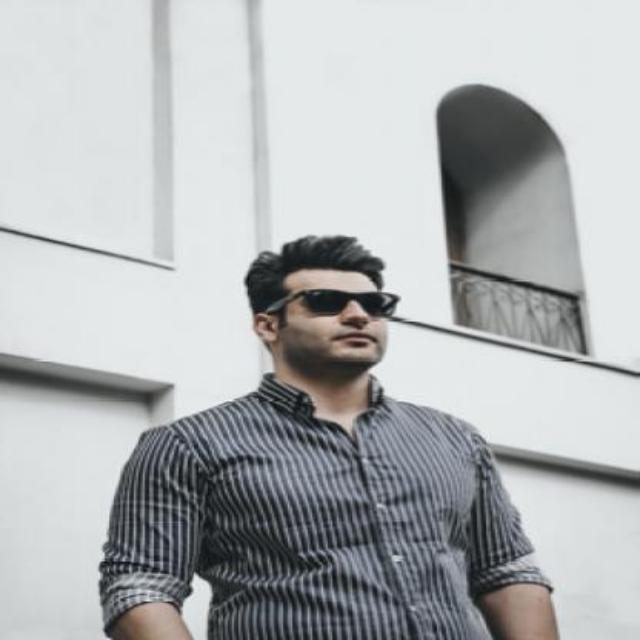sunglasses: (264, 288, 398, 318)
